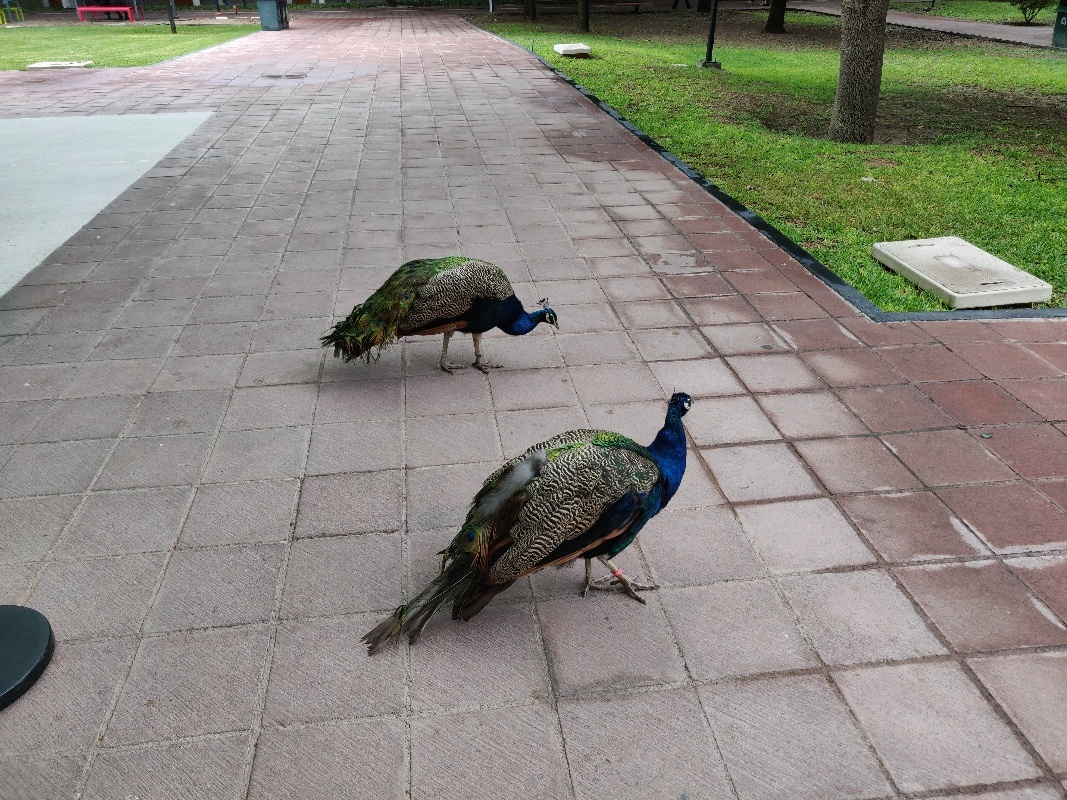pavoreal: (433, 392, 694, 651), (328, 257, 564, 359)
